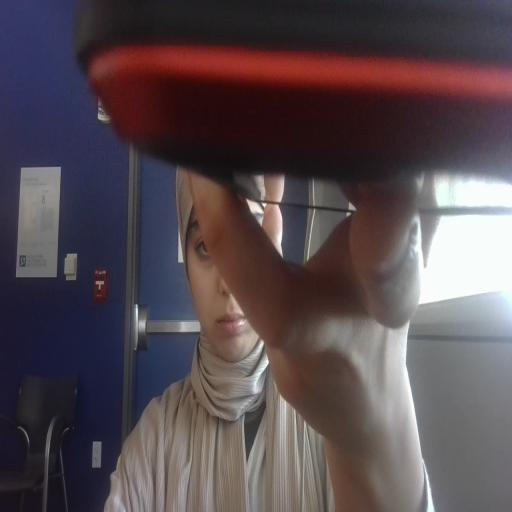phone: (75, 4, 512, 210)
